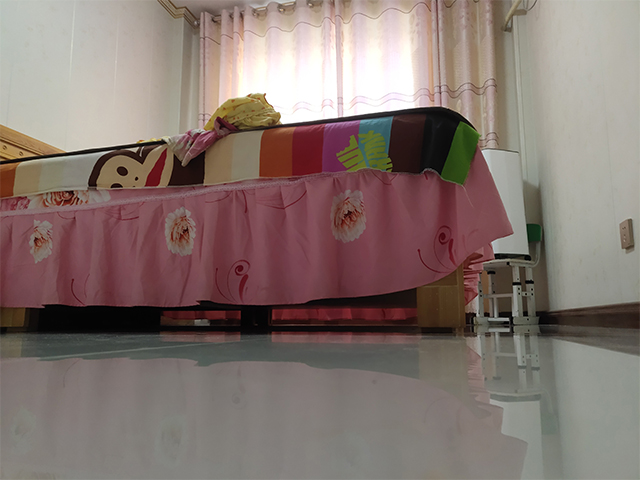cabinet: (1, 1, 253, 386)
stool: (444, 230, 531, 388)
table: (434, 245, 559, 389)
trashcan: (234, 289, 287, 387), (552, 336, 605, 391)
